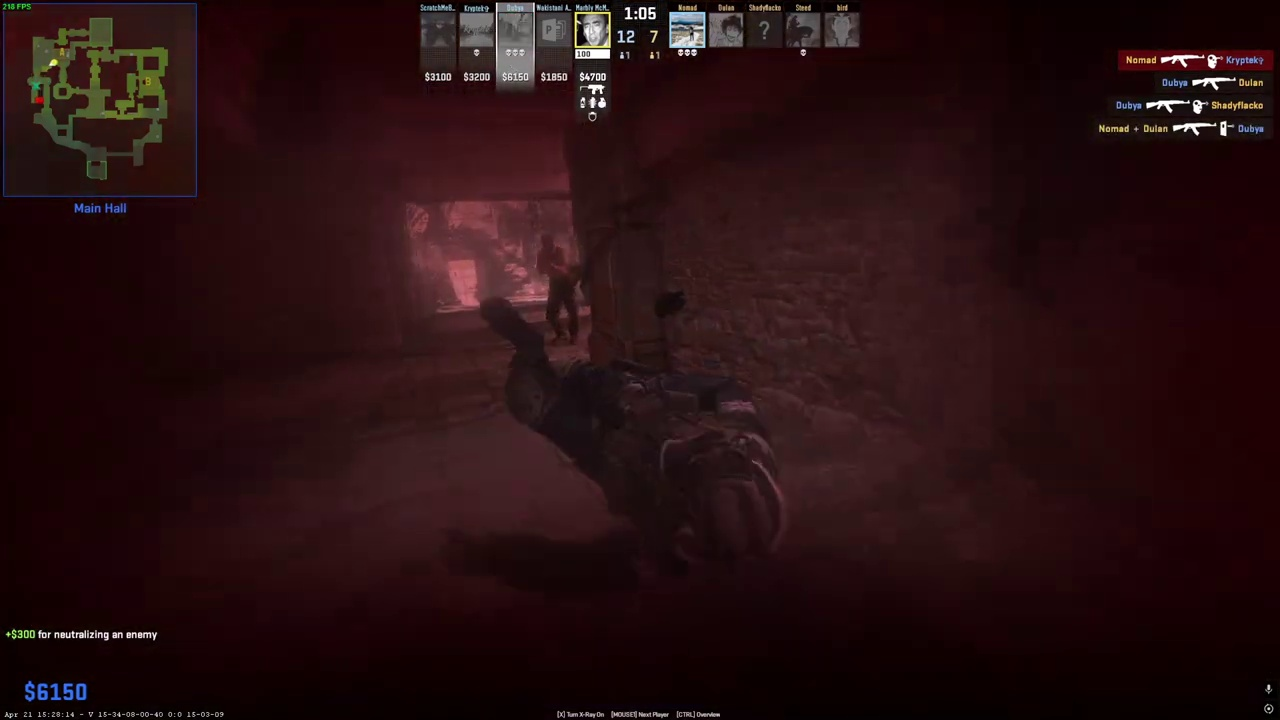Terrorist: (538, 233, 580, 344)
